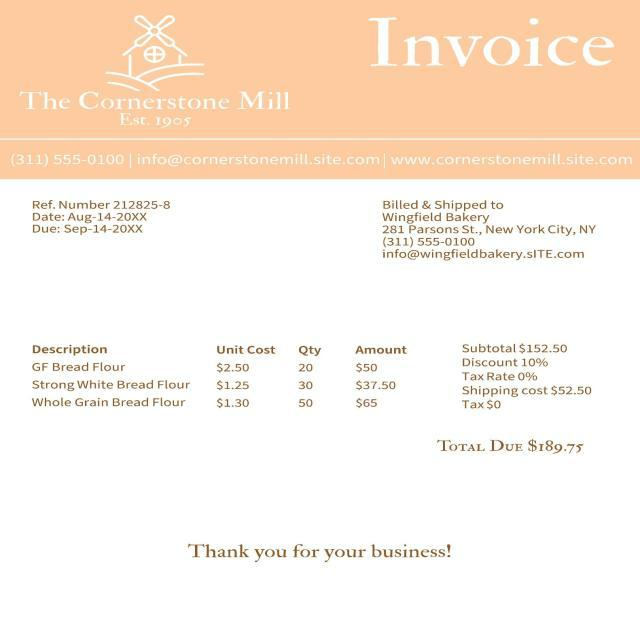ROI: (13, 329, 423, 422), (5, 142, 640, 174), (348, 9, 622, 77), (373, 193, 609, 268), (10, 82, 297, 134), (180, 528, 468, 572), (454, 331, 610, 411), (21, 187, 178, 240), (431, 428, 606, 464)
